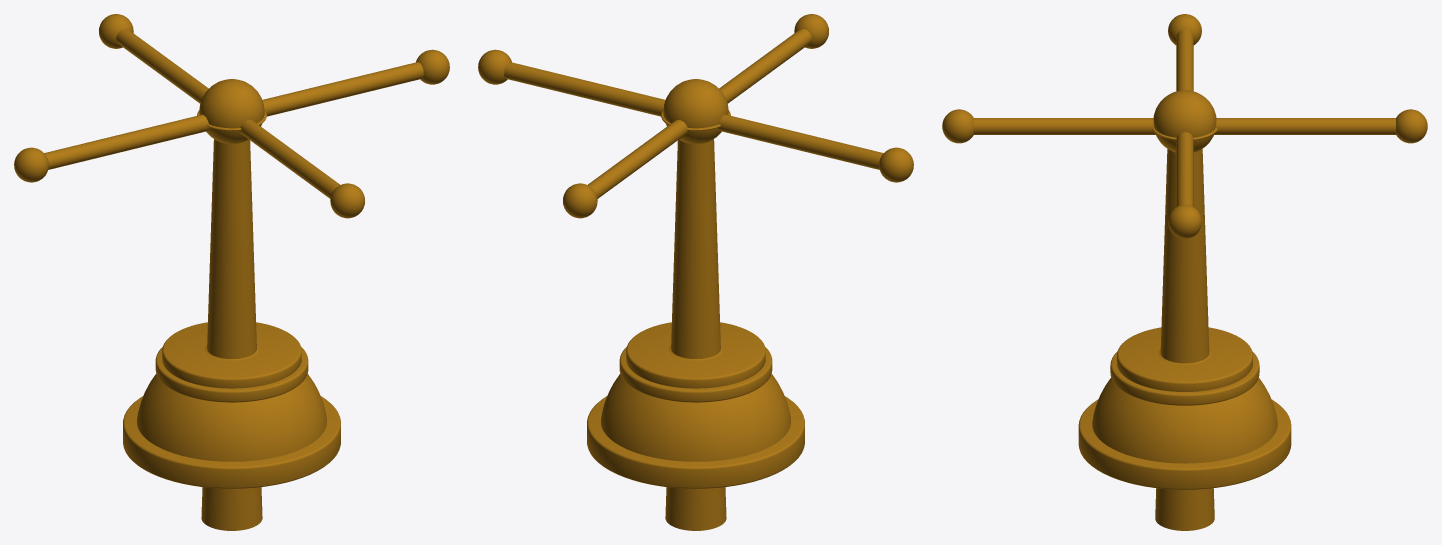
Rendered from roulette_handle.obj.
The picture shows the model from 3 angles, left to right: view 1: azimuth 30°, elevation 25°; view 2: azimuth 150°, elevation 25°; view 3: azimuth 270°, elevation 25°; orthographic projection. The views are drawn at different scales.
Visible parts, largest first — view 1: Cylinder_3_Mesh.006, Sphere_Mesh.010, Cylinder_Mesh.009, Cylinder_2_Mesh.007, Cylinder_5_Mesh.003, Cylinder_4_Mesh.005, Sphere_1_Mesh.001, Cylinder_1_Mesh.008, Sphere_2_0_Mesh.002, Sphere_2_2_Mesh.002, Sphere_2_1_Mesh.002, Sphere_2_3_Mesh.002; view 2: Cylinder_3_Mesh.006, Sphere_Mesh.010, Cylinder_Mesh.009, Cylinder_2_Mesh.007, Cylinder_5_Mesh.003, Cylinder_4_Mesh.005, Sphere_1_Mesh.001, Cylinder_1_Mesh.008, Sphere_2_2_Mesh.002, Sphere_2_3_Mesh.002, Sphere_2_1_Mesh.002, Sphere_2_0_Mesh.002; view 3: Sphere_Mesh.010, Cylinder_3_Mesh.006, Cylinder_Mesh.009, Cylinder_4_Mesh.005, Cylinder_2_Mesh.007, Sphere_1_Mesh.001, Cylinder_1_Mesh.008, Cylinder_5_Mesh.003, Sphere_2_1_Mesh.002, Sphere_2_0_Mesh.002, Sphere_2_3_Mesh.002, Sphere_2_2_Mesh.002.
Boxes of the visible parts, x1=… form: Cylinder_3_Mesh.006: x1=201, y1=139, x2=262, y2=530; Sphere_Mesh.010: x1=137, y1=345, x2=326, y2=461; Cylinder_Mesh.009: x1=123, y1=396, x2=340, y2=488; Cylinder_2_Mesh.007: x1=162, y1=322, x2=301, y2=388; Cylinder_5_Mesh.003: x1=44, y1=62, x2=423, y2=169; Cylinder_4_Mesh.005: x1=116, y1=29, x2=339, y2=198; Sphere_1_Mesh.001: x1=199, y1=79, x2=264, y2=143; Cylinder_1_Mesh.008: x1=155, y1=347, x2=308, y2=402; Sphere_2_0_Mesh.002: x1=330, y1=183, x2=364, y2=218; Sphere_2_2_Mesh.002: x1=14, y1=147, x2=48, y2=182; Sphere_2_1_Mesh.002: x1=416, y1=49, x2=449, y2=84; Sphere_2_3_Mesh.002: x1=99, y1=14, x2=133, y2=48; Cylinder_3_Mesh.006: x1=665, y1=139, x2=726, y2=530; Sphere_Mesh.010: x1=601, y1=345, x2=790, y2=461; Cylinder_Mesh.009: x1=587, y1=396, x2=804, y2=488; Cylinder_2_Mesh.007: x1=626, y1=322, x2=765, y2=388; Cylinder_5_Mesh.003: x1=504, y1=62, x2=883, y2=169; Cylinder_4_Mesh.005: x1=588, y1=29, x2=811, y2=198; Sphere_1_Mesh.001: x1=663, y1=79, x2=728, y2=143; Cylinder_1_Mesh.008: x1=619, y1=347, x2=772, y2=402; Sphere_2_2_Mesh.002: x1=879, y1=147, x2=913, y2=182; Sphere_2_3_Mesh.002: x1=563, y1=183, x2=597, y2=218; Sphere_2_1_Mesh.002: x1=478, y1=49, x2=511, y2=84; Sphere_2_0_Mesh.002: x1=794, y1=14, x2=828, y2=48; Sphere_Mesh.010: x1=1092, y1=349, x2=1277, y2=463; Cylinder_3_Mesh.006: x1=1155, y1=149, x2=1214, y2=530; Cylinder_Mesh.009: x1=1078, y1=399, x2=1291, y2=489; Cylinder_4_Mesh.005: x1=973, y1=118, x2=1396, y2=134; Cylinder_2_Mesh.007: x1=1117, y1=327, x2=1252, y2=391; Sphere_1_Mesh.001: x1=1153, y1=90, x2=1216, y2=152; Cylinder_1_Mesh.008: x1=1110, y1=351, x2=1259, y2=405; Cylinder_5_Mesh.003: x1=1176, y1=29, x2=1193, y2=206; Sphere_2_1_Mesh.002: x1=1168, y1=205, x2=1201, y2=238; Sphere_2_0_Mesh.002: x1=942, y1=109, x2=973, y2=143; Sphere_2_3_Mesh.002: x1=1396, y1=109, x2=1427, y2=143; Sphere_2_2_Mesh.002: x1=1168, y1=14, x2=1201, y2=44.
Size of the model in its own units: 1.1 by 1.07 by 1.1.
